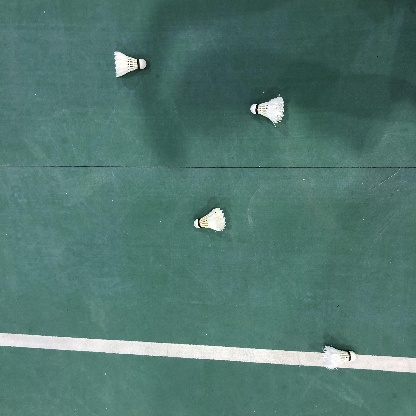ball_single: (251, 97, 285, 123), (114, 51, 147, 77), (322, 346, 356, 369), (194, 208, 226, 231)
